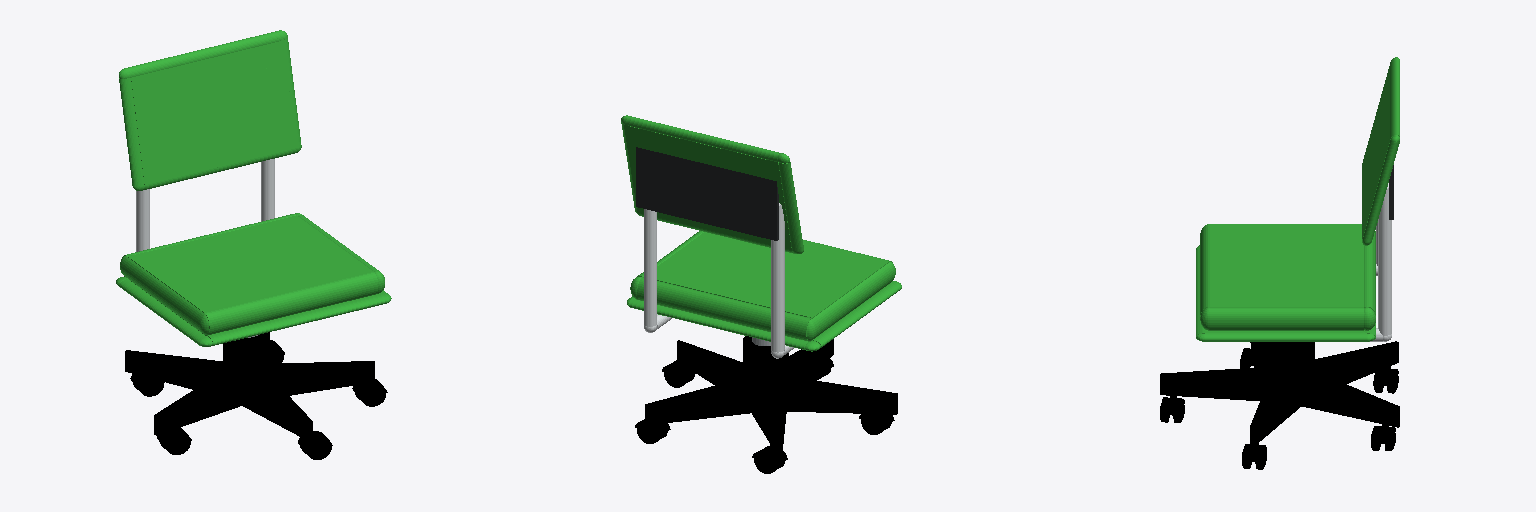
Rendered from chair.obj.
3 views of the same model, side by side, from view 1: azimuth 30°, elevation 25°; view 2: azimuth 150°, elevation 25°; view 3: azimuth 270°, elevation 25° (orthographic).
Visible parts, largest first — view 1: chair2; view 2: chair2; view 3: chair2.
Boxes of the visible parts, x1=… form: chair2: x1=116, y1=30, x2=391, y2=459; chair2: x1=621, y1=115, x2=901, y2=473; chair2: x1=1160, y1=57, x2=1399, y2=469.
Bounding box in the file's own units: 57.62 × 77.52 × 52.07.